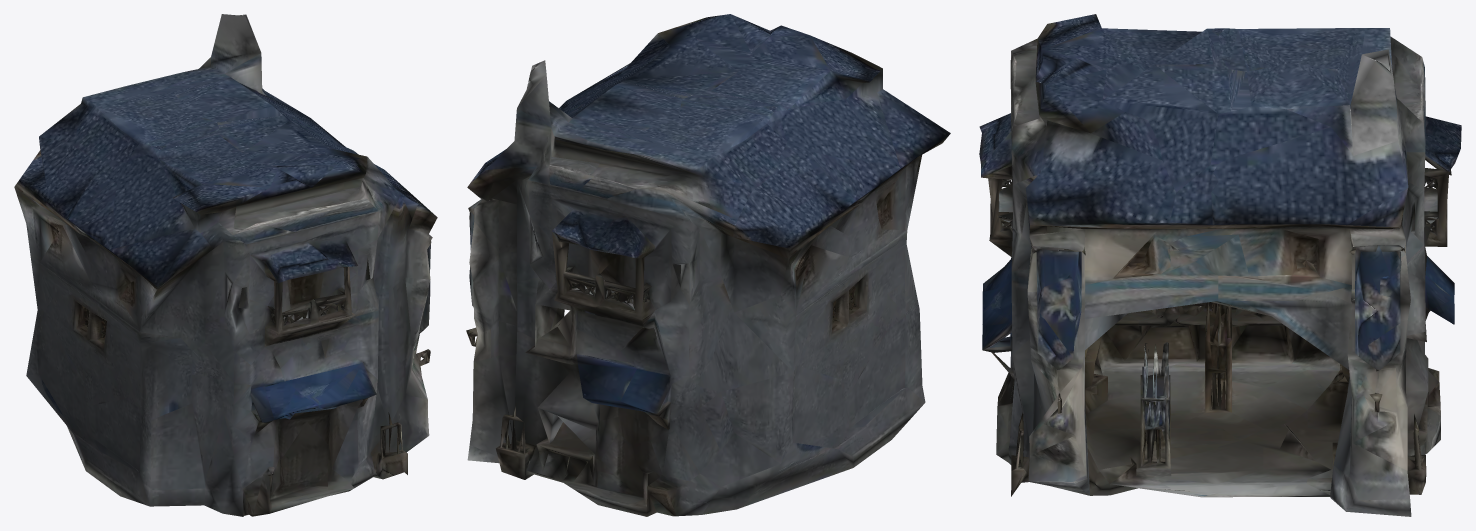
The model's file is armory_0.glb.
3 renders of one model, left to right at view 1: azimuth 30°, elevation 25°; view 2: azimuth 150°, elevation 25°; view 3: azimuth 270°, elevation 25°, orthographic. The views are drawn at different scales.
Visible parts, largest first — view 1: tripo_node_9135ea5f-51bd-4d9c-bb9f-772e71067b7c; view 2: tripo_node_9135ea5f-51bd-4d9c-bb9f-772e71067b7c; view 3: tripo_node_9135ea5f-51bd-4d9c-bb9f-772e71067b7c.
Boxes of the visible parts, box(x1,y1,x2,y2) form: tripo_node_9135ea5f-51bd-4d9c-bb9f-772e71067b7c: box(14, 14, 437, 516); tripo_node_9135ea5f-51bd-4d9c-bb9f-772e71067b7c: box(466, 14, 950, 516); tripo_node_9135ea5f-51bd-4d9c-bb9f-772e71067b7c: box(979, 14, 1461, 516).
Bounding box in the file's own units: 0.8266 × 0.9633 × 0.9715.
1 material, 1 textured.
